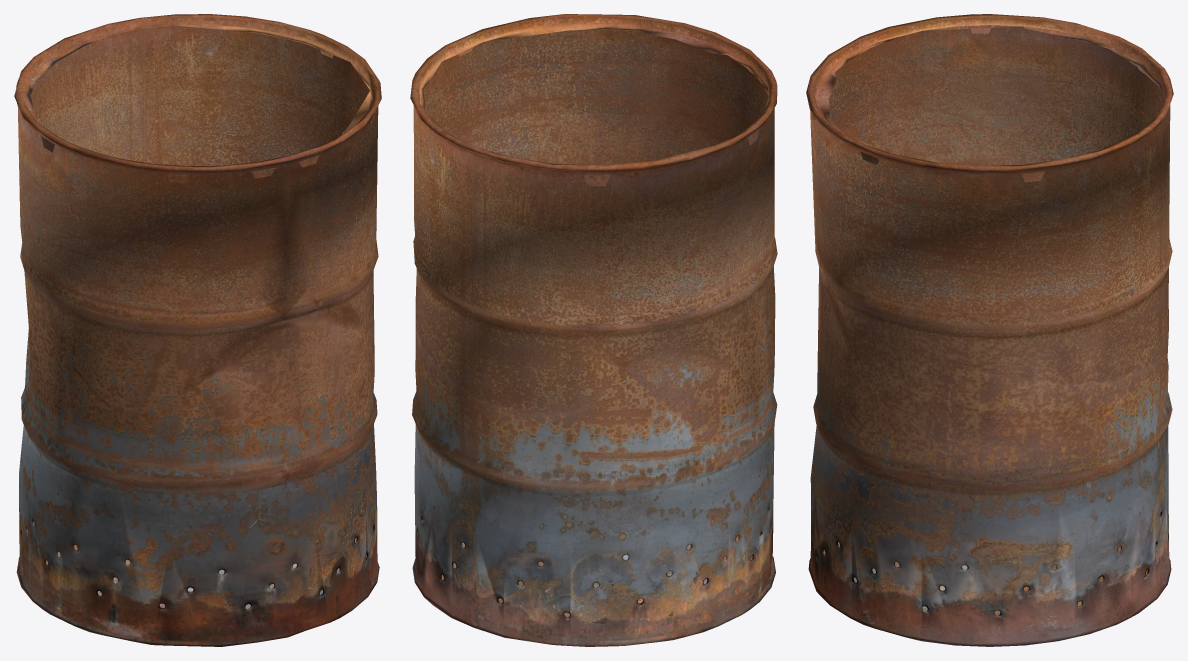
File: barrel_stove.glb
The picture shows the model from 3 angles, left to right: view 1: azimuth 30°, elevation 25°; view 2: azimuth 150°, elevation 25°; view 3: azimuth 270°, elevation 25°; orthographic projection.
Parts seen in each view (by area): view 1: barrel_stove; view 2: barrel_stove; view 3: barrel_stove.
Part boxes in pixels (box(x1,y1,x2,y2)): barrel_stove: box(14, 14, 381, 646); barrel_stove: box(410, 14, 777, 646); barrel_stove: box(806, 14, 1173, 646).
Bounding box in the file's own units: 0.5902 × 0.8556 × 0.5926.
Materials: 1 (1 with a texture image).
